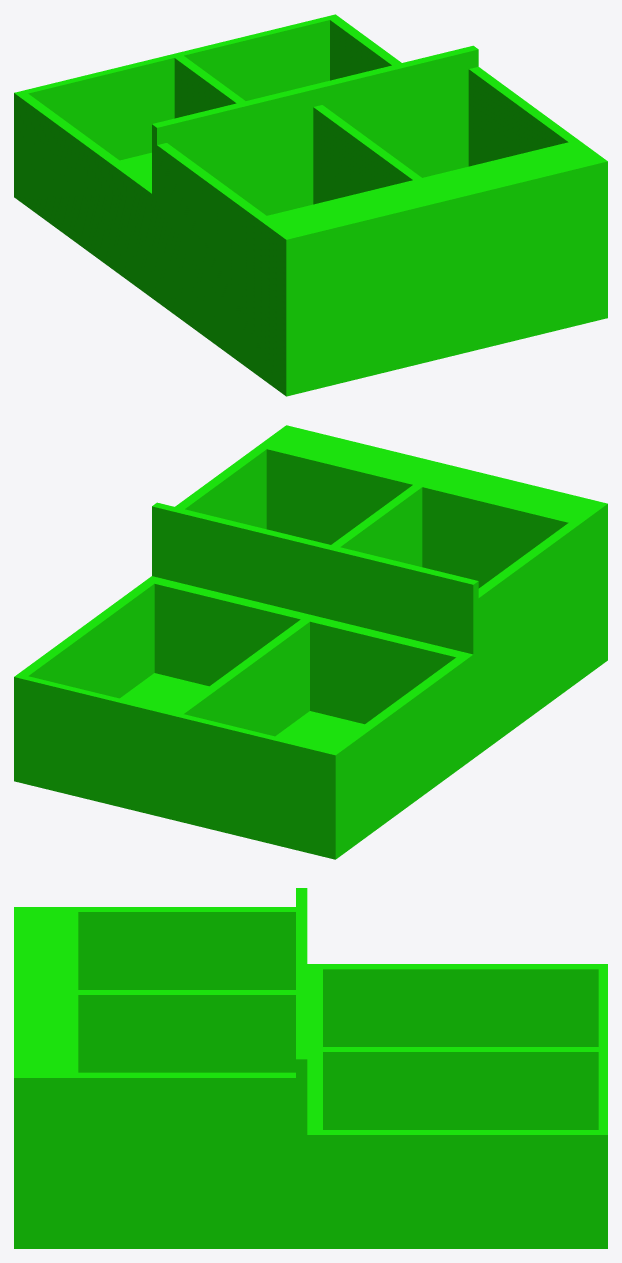
The model's file is SM_BigShelf_01_Collider.fbx.
3 renders of one model, top to bottom at view 1: azimuth 30°, elevation 25°; view 2: azimuth 150°, elevation 25°; view 3: azimuth 270°, elevation 25°, orthographic. The views are drawn at different scales.
Parts seen in each view (by area): view 1: SM_BigShelf_01_Collider; view 2: SM_BigShelf_01_Collider; view 3: SM_BigShelf_01_Collider.
Part boxes in pixels (x1,y1,x2,y2): SM_BigShelf_01_Collider: [14, 14, 607, 396]; SM_BigShelf_01_Collider: [14, 425, 607, 859]; SM_BigShelf_01_Collider: [14, 888, 607, 1248].
Size of the model in its own units: 141 by 72.7 by 206.
